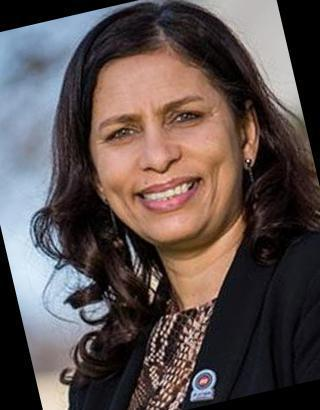Sober: (94, 61, 241, 235)
